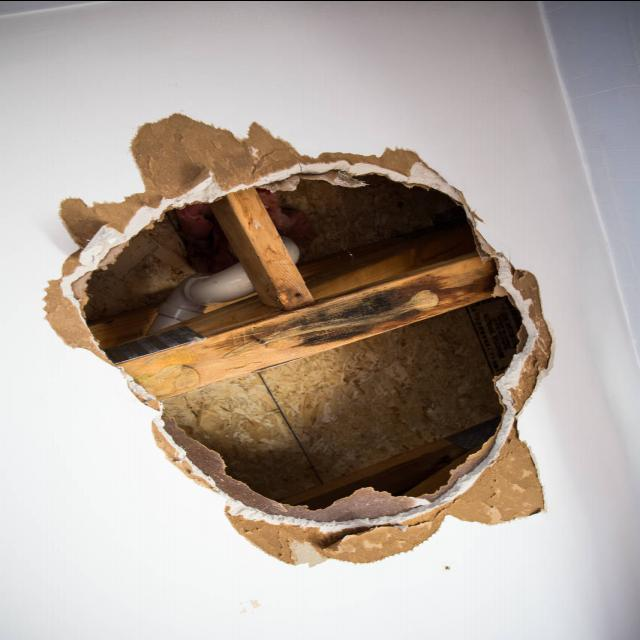Crack: (74, 168, 528, 525)
